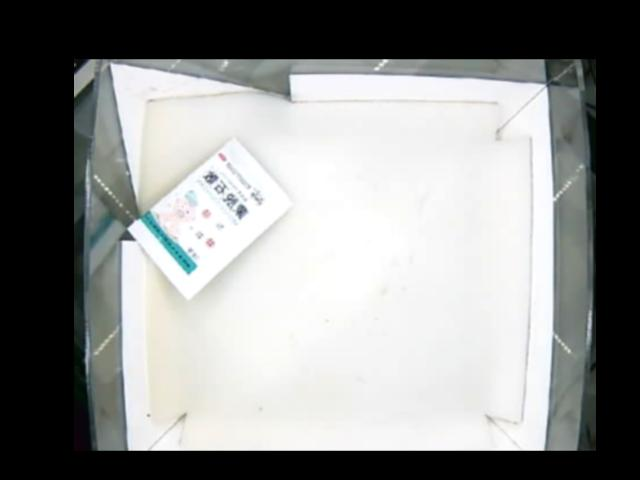Medicine: (125, 135, 295, 298)
